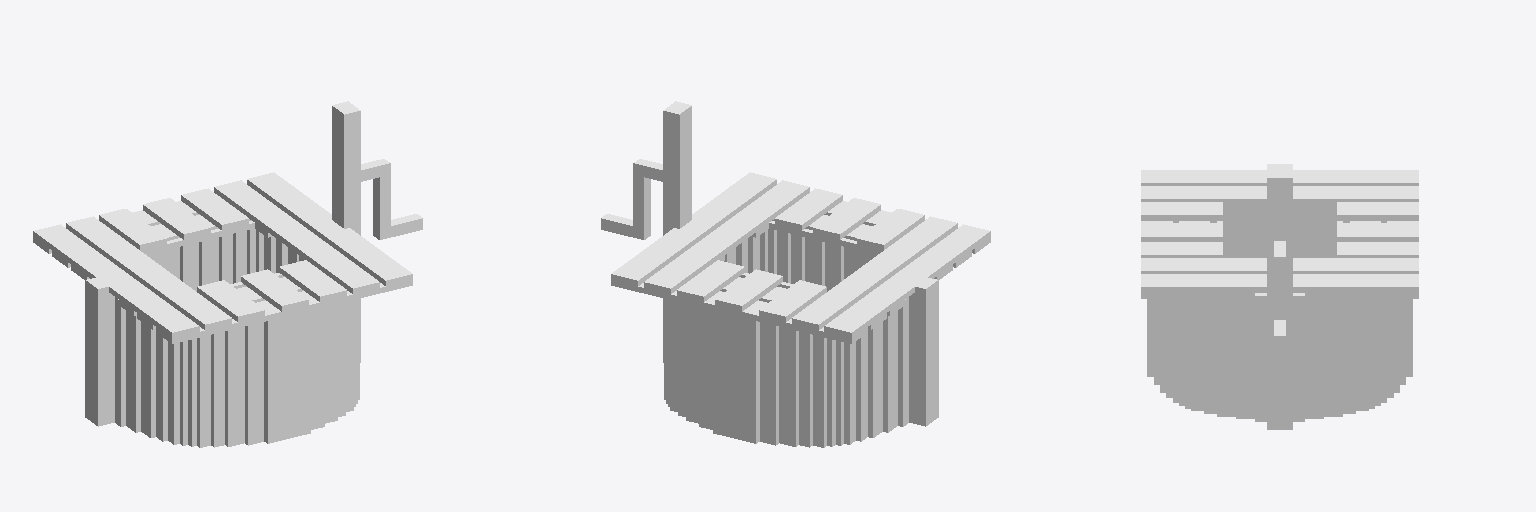
File: SkeletonLair-0.obj
The picture shows the model from 3 angles: view 1: azimuth 30°, elevation 25°; view 2: azimuth 150°, elevation 25°; view 3: azimuth 270°, elevation 25°; orthographic projection.
Visible parts, largest first — view 1: object 1; view 2: object 1; view 3: object 1.
Boxes of the visible parts, <box> form: object 1: <box>33,101,422,447</box>; object 1: <box>601,101,990,447</box>; object 1: <box>1141,164,1418,429</box>.
Size of the model in its own units: 6 by 4.4 by 4.4.